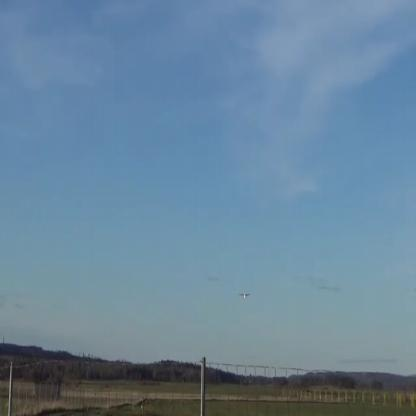CIV_Plane: (232, 283, 255, 304)
